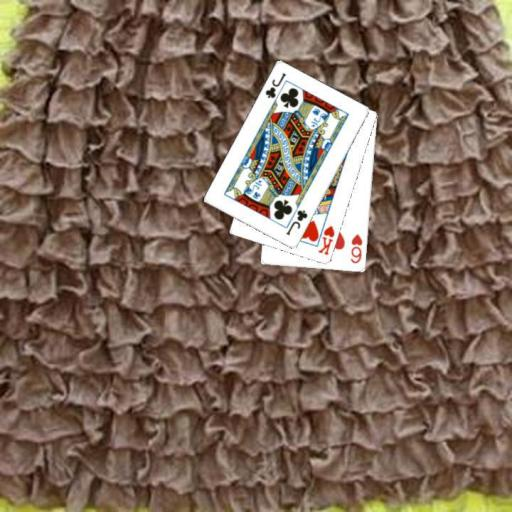6H: (348, 231, 364, 265)
JC: (283, 207, 309, 237), (262, 70, 288, 100)
KH: (315, 223, 336, 257)
